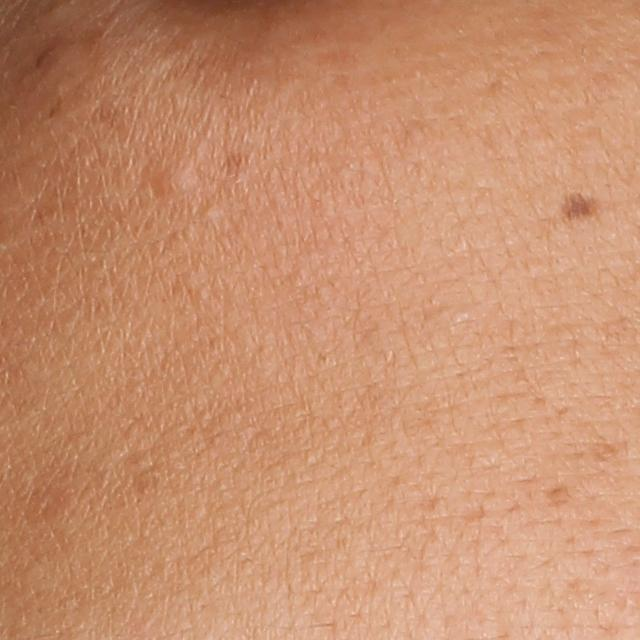atrophic_scar: (540, 481, 573, 510)
comedo: (149, 162, 199, 203), (198, 200, 218, 221)
nevus: (554, 191, 606, 225)
